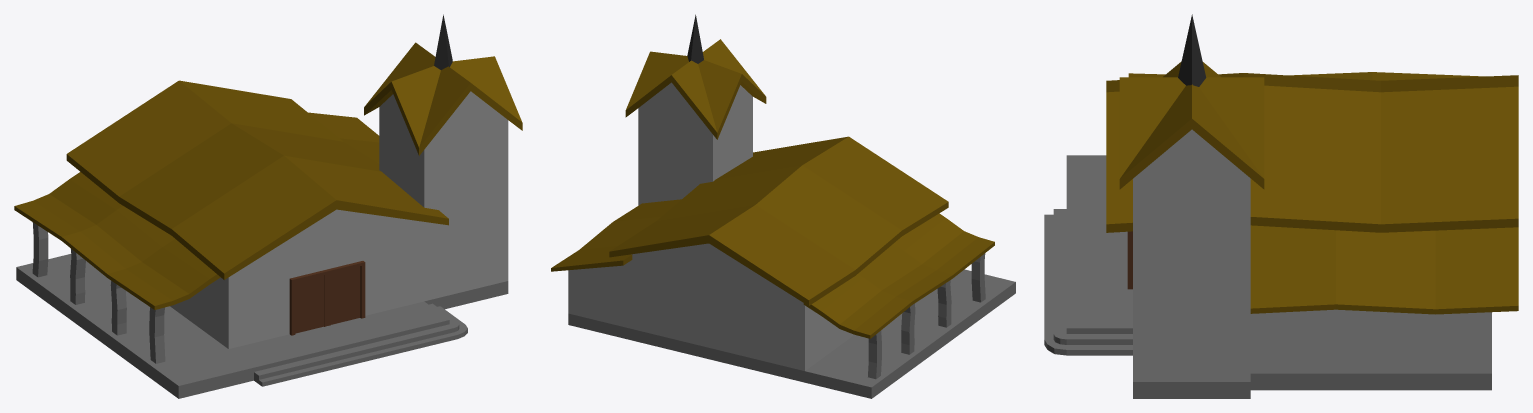
Rendered from Prefeitura.fbx.
3 views of the same model, side by side, from view 1: azimuth 30°, elevation 25°; view 2: azimuth 150°, elevation 25°; view 3: azimuth 270°, elevation 25° (orthographic). The views are drawn at different scales.
Visible parts, largest first — view 1: Prefeitura, Porta; view 2: Prefeitura; view 3: Prefeitura.
Boxes of the visible parts, <box> form: Prefeitura: <box>14,14,522,398</box>; Porta: <box>289,261,365,335</box>; Prefeitura: <box>551,14,1015,398</box>; Prefeitura: <box>1044,14,1518,398</box>.
Bounding box in the file's own units: 1781 × 1278 × 1534.
